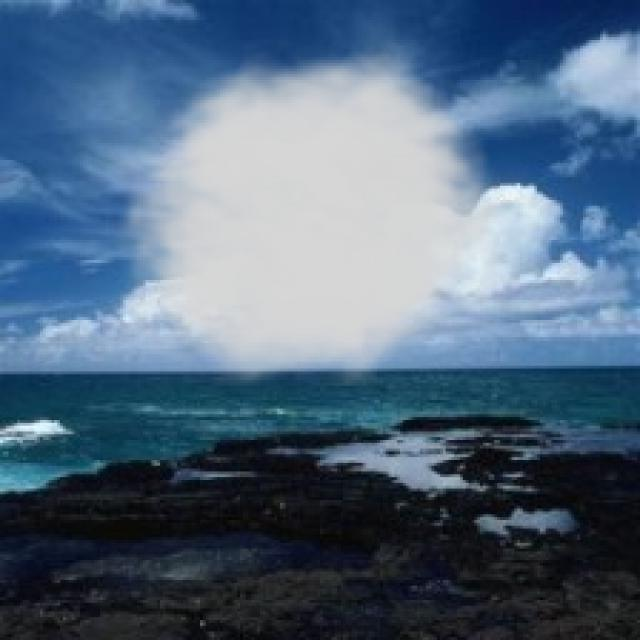Smoke: (106, 37, 514, 386)
